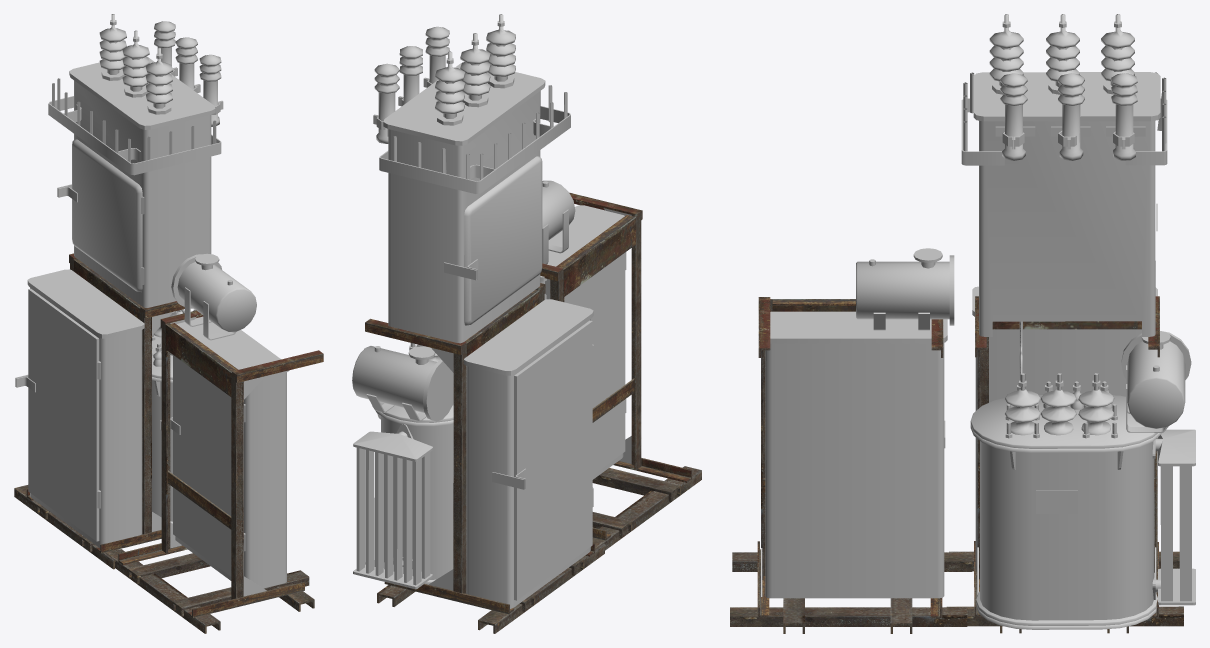
Rendered from Transformator.fbx.
3 renders of one model, left to right at view 1: azimuth 30°, elevation 25°; view 2: azimuth 150°, elevation 25°; view 3: azimuth 270°, elevation 25°, orthographic. The views are drawn at different scales.
Visible parts, largest first — view 1: mesh_0.1707, mesh_0.1812, mesh_1.1246, mesh_1.1221, mesh_0.1841, mesh_0.1772; view 2: mesh_0.1707, mesh_1.1246, mesh_1.1221, mesh_0.1812, mesh_0.1841; view 3: mesh_0.1707, mesh_0.1812, mesh_1.1246, mesh_0.1841, mesh_1.1221.
Part boxes in pixels (<box>): mesh_0.1707: <box>15,14,223,547</box>; mesh_0.1812: <box>160,316,289,588</box>; mesh_1.1246: <box>106,310,323,633</box>; mesh_1.1221: <box>14,253,184,569</box>; mesh_0.1841: <box>171,253,256,340</box>; mesh_0.1772: <box>170,316,266,596</box>; mesh_0.1707: <box>352,14,593,608</box>; mesh_1.1246: <box>540,192,701,550</box>; mesh_1.1221: <box>365,283,604,633</box>; mesh_0.1812: <box>540,205,626,479</box>; mesh_0.1841: <box>542,180,575,264</box>; mesh_0.1707: <box>961,14,1195,629</box>; mesh_0.1812: <box>765,311,947,598</box>; mesh_1.1246: <box>730,297,972,633</box>; mesh_0.1841: <box>856,248,954,330</box>; mesh_1.1221: <box>947,296,1183,633</box>.
Bounding box in the file's own units: 1.38 × 4.2 × 3.01.
